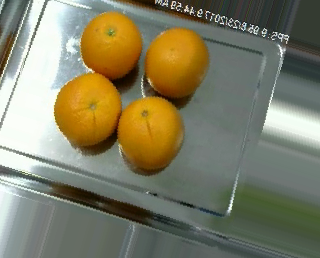Orange: (117, 95, 186, 169), (54, 73, 122, 147), (144, 27, 210, 97), (80, 11, 142, 78)
